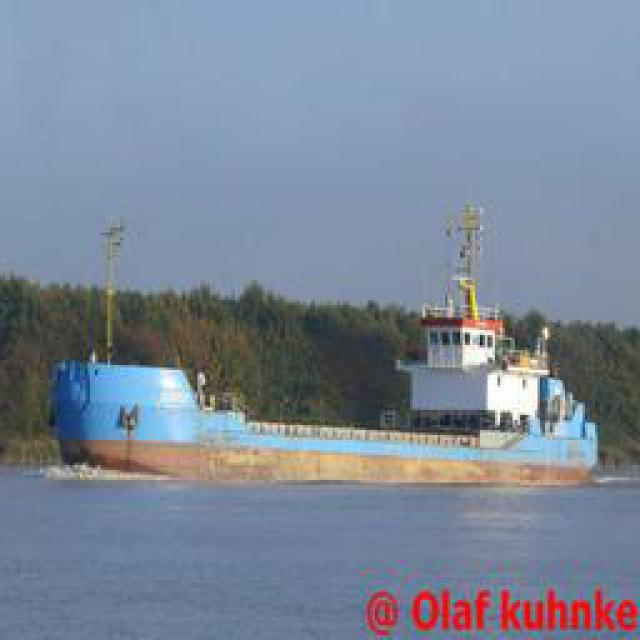Ship: (42, 204, 610, 491)
